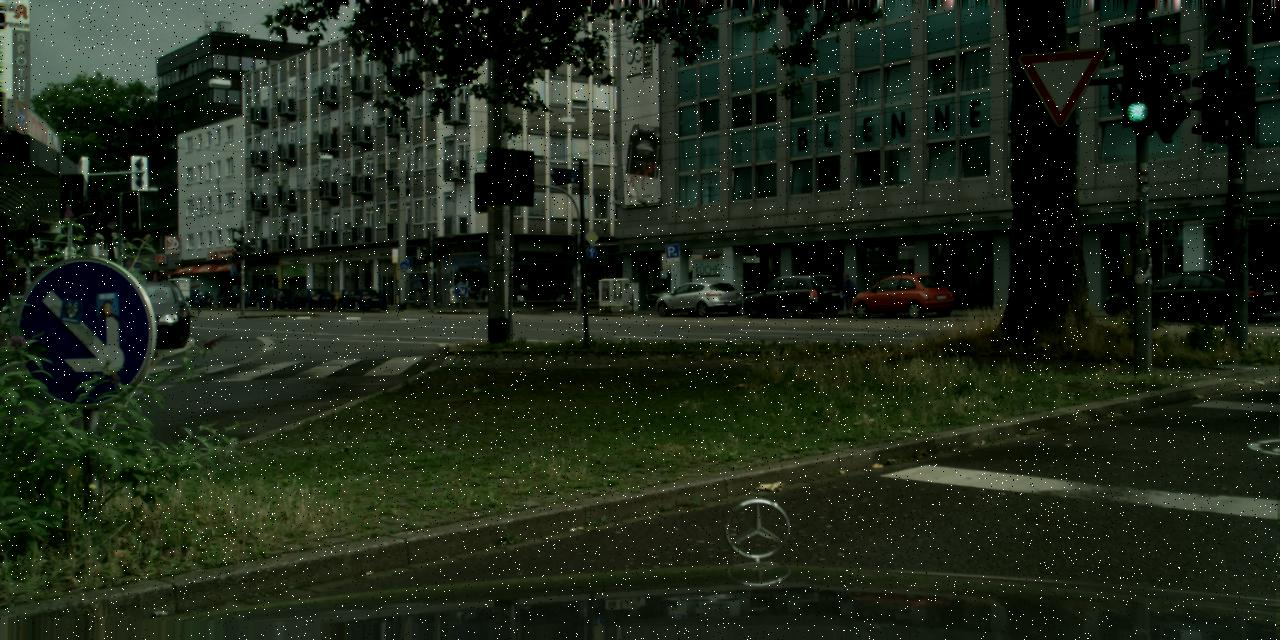ped: (838, 272, 857, 317)
